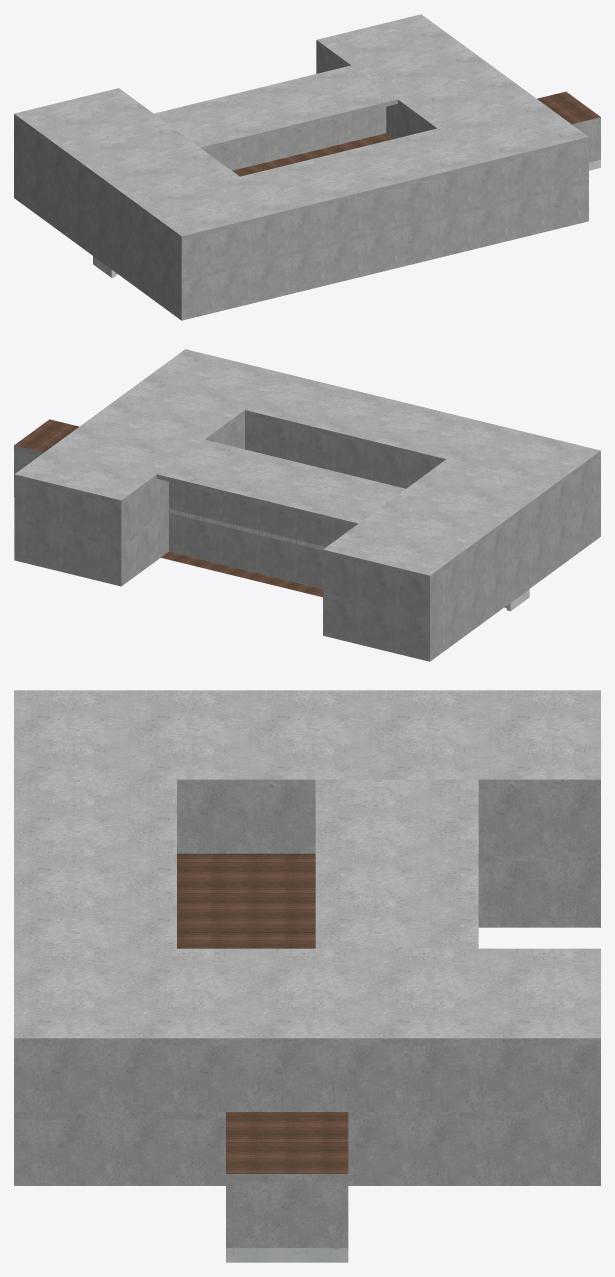
The model's file is Abandoned_School.fbx.
3 views of the same model, one above another, from view 1: azimuth 30°, elevation 25°; view 2: azimuth 150°, elevation 25°; view 3: azimuth 270°, elevation 25° (orthographic). The views are drawn at different scales.
Visible parts, largest first — view 1: Roof, Level_2, Level_1, Floor_2; view 2: Roof, Level_2, Level_1, Floor_2, Floor_1; view 3: Roof, Level_2, Level_1, Floor_2.
Part boxes in pixels (box(x1,y1,x2,y2)): Roof: box(14, 14, 588, 240); Level_2: box(14, 44, 588, 278); Level_1: box(14, 121, 600, 320); Floor_2: box(14, 91, 600, 282); Roof: box(14, 349, 600, 579); Level_2: box(14, 414, 600, 618); Level_1: box(14, 450, 600, 661); Floor_2: box(14, 419, 600, 622); Floor_1: box(161, 552, 506, 607); Roof: box(14, 690, 600, 1045); Level_2: box(14, 787, 600, 1111); Level_1: box(14, 861, 600, 1262); Floor_2: box(14, 853, 600, 1181).
Size of the model in its own units: 1190 by 223 by 720.
15 materials, 15 textured.
